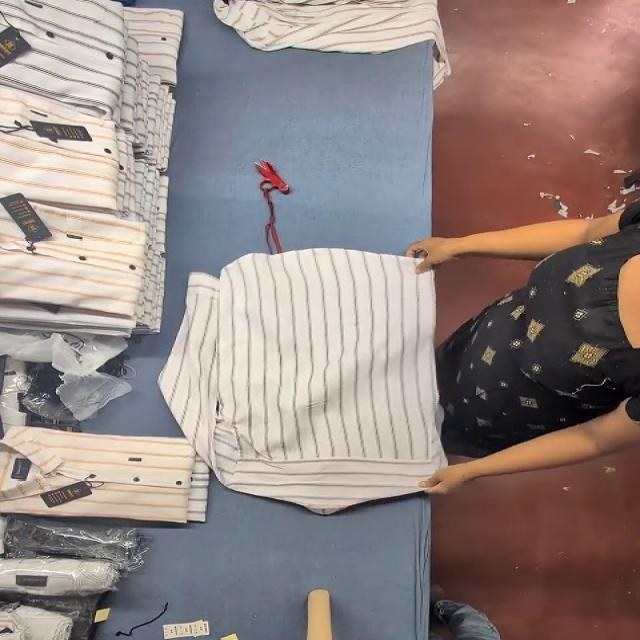new-garment: (160, 248, 445, 512)
